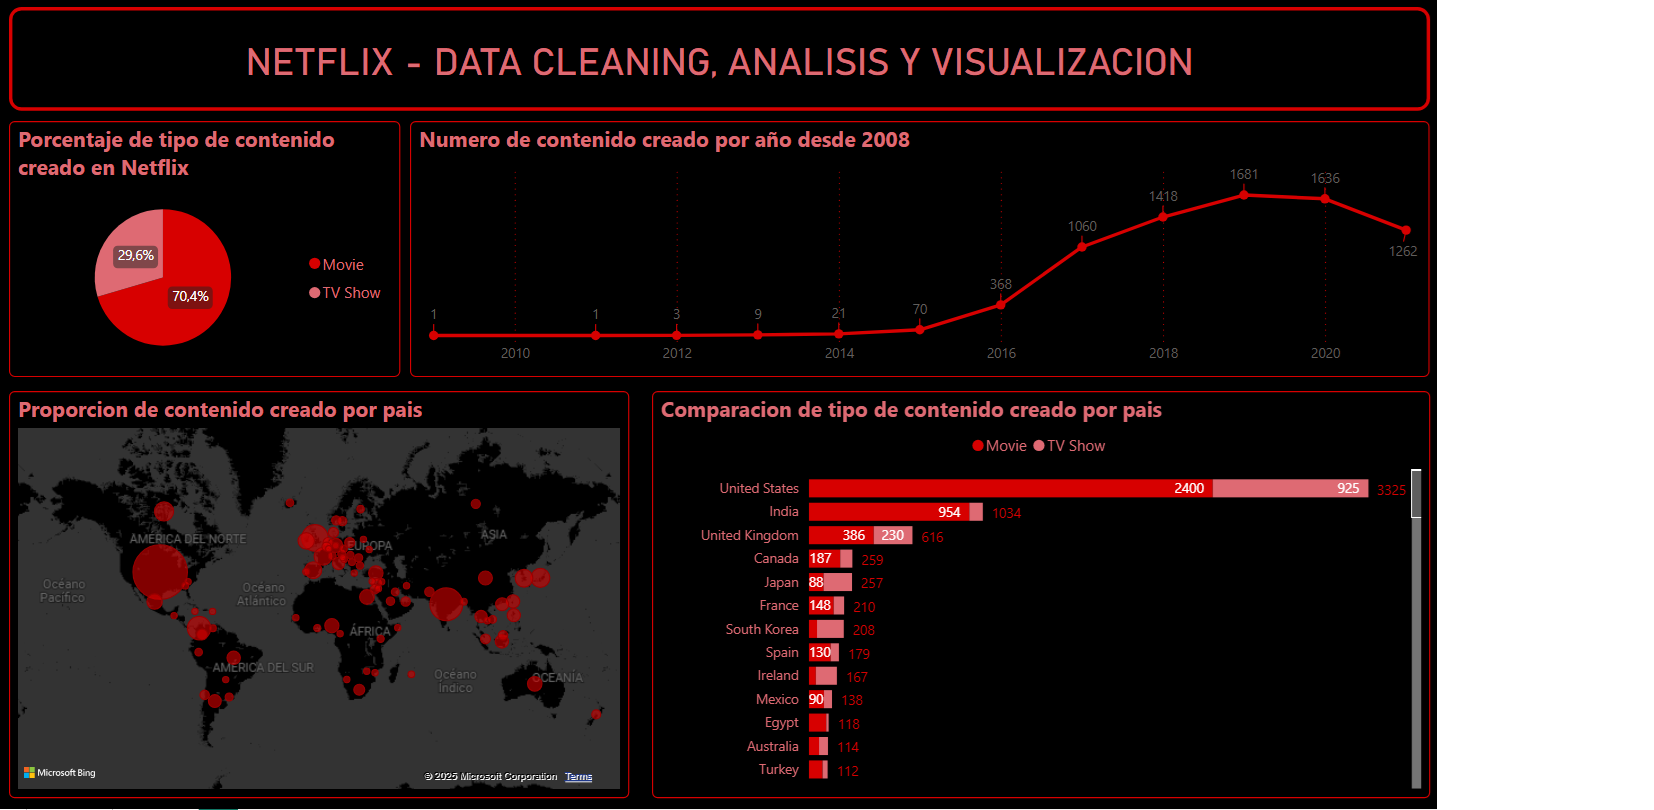

This screenshot's page, from the dashboard's own definition file:
{"tool":"powerbi","page":{"name":"Página 1","canvas":[1280,720],"ordinal":0},"visuals":[{"type":"textbox","box":[9.9,8.7,1260.1,91.9],"z":0},{"type":"pieChart","title":"Porcentaje de tipo de contenido creado en Netflix","fields":{"Category":["netflix_titles.type"],"Y":["CountNonNull(netflix_titles.type)"]},"box":[9.6,110,347,227.4],"z":1000},{"type":"map","title":"Proporcion de contenido creado por pais","fields":{"Category":["netflix_titles.country1"],"Size":["CountNonNull(netflix_titles.show_id)"]},"box":[9.6,349.1,549.8,360.8],"z":2000},{"type":"barChart","title":"Comparacion de tipo de contenido creado por pais","fields":{"Category":["netflix_titles.country1"],"Y":["CountNonNull(netflix_titles.type)"],"Series":["netflix_titles.type"]},"box":[579.7,349.1,689.6,360.8],"z":3000},{"type":"lineChart","title":"Numero de contenido creado por año desde 2008","fields":{"Category":["netflix_titles.date_added.Variación.Jerarquía de fechas.Año","netflix_titles.date_added.Variación.Jerarquía de fechas.Trimestre","netflix_titles.date_added.Variación.Jerarquía de fechas.Mes","netflix_titles.date_added.Variación.Jerarquía de fechas.Día"],"Y":["netflix_titles.conteo"]},"box":[365.1,110,904.2,227.4],"z":4000}]}

Visuals, with their boxes on the page's 1280x720 design canvas (x1, y1, x2, y2). These are canvas units, not pixel positions in the 1654x810 screenshot, which may show the page scaled, cropped or inside an application window:
textbox: {"left": 10, "top": 9, "right": 1270, "bottom": 101}
"Porcentaje de tipo de contenido creado en Netflix" pieChart: {"left": 10, "top": 110, "right": 357, "bottom": 337}
"Proporcion de contenido creado por pais" map: {"left": 10, "top": 349, "right": 559, "bottom": 710}
"Comparacion de tipo de contenido creado por pais" barChart: {"left": 580, "top": 349, "right": 1269, "bottom": 710}
"Numero de contenido creado por año desde 2008" lineChart: {"left": 365, "top": 110, "right": 1269, "bottom": 337}
